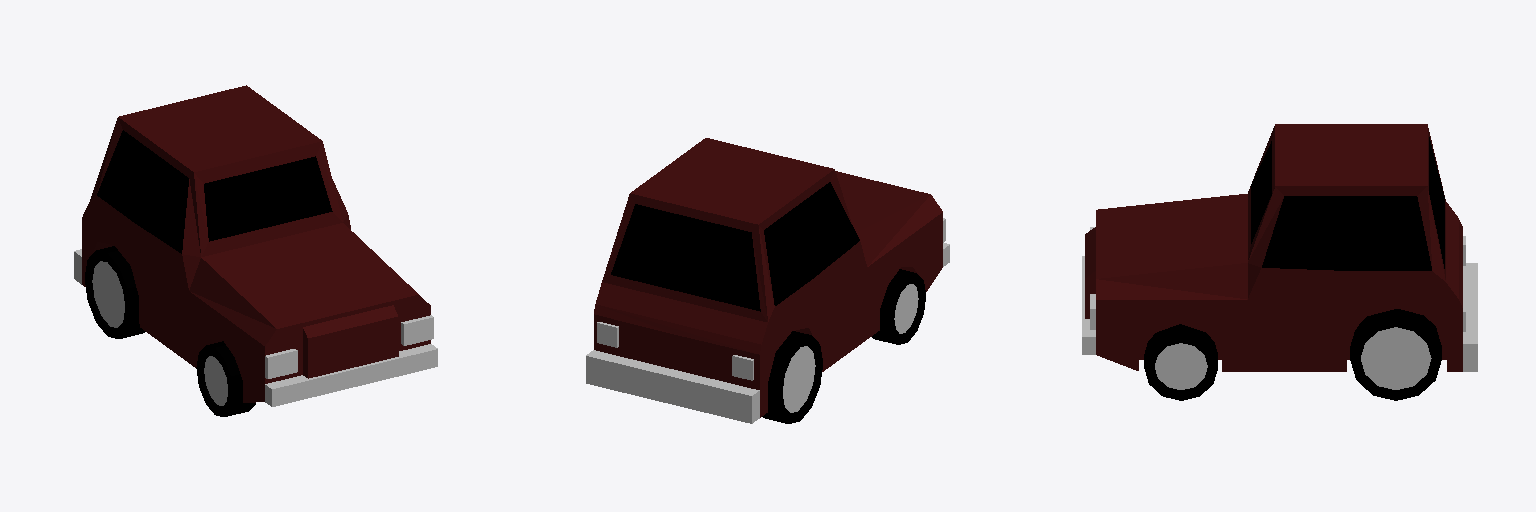
Rendered from car.1.obj.
3 renders of one model, left to right at view 1: azimuth 30°, elevation 25°; view 2: azimuth 150°, elevation 25°; view 3: azimuth 270°, elevation 25°, orthographic.
Visible parts, largest first — view 1: car; view 2: car; view 3: car.
Part boxes in pixels (left/top/right/bottom): car: left=74, top=85, right=437, bottom=416; car: left=586, top=138, right=949, bottom=423; car: left=1082, top=124, right=1477, bottom=400.
Bounding box in the file's own units: 1.35 × 1.44 × 2.56.